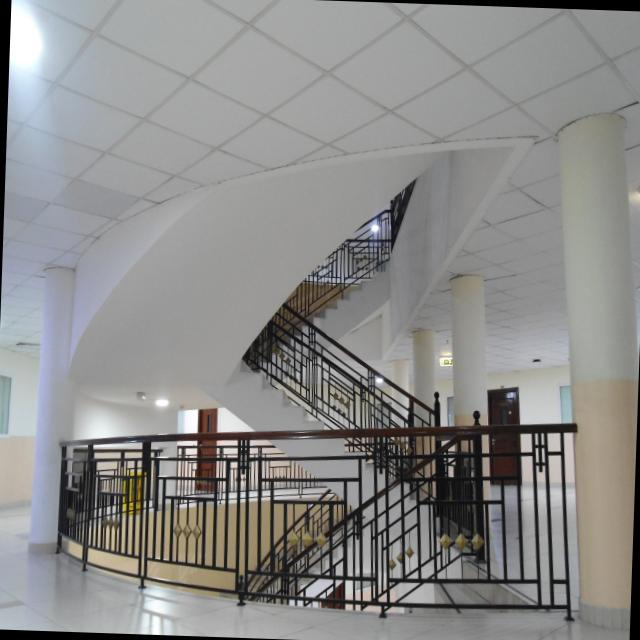pillar: (536, 74, 640, 606), (431, 266, 507, 556), (27, 263, 86, 555), (398, 316, 444, 538)
railing: (33, 416, 609, 626), (224, 386, 498, 640), (229, 292, 486, 536), (282, 190, 402, 356)
